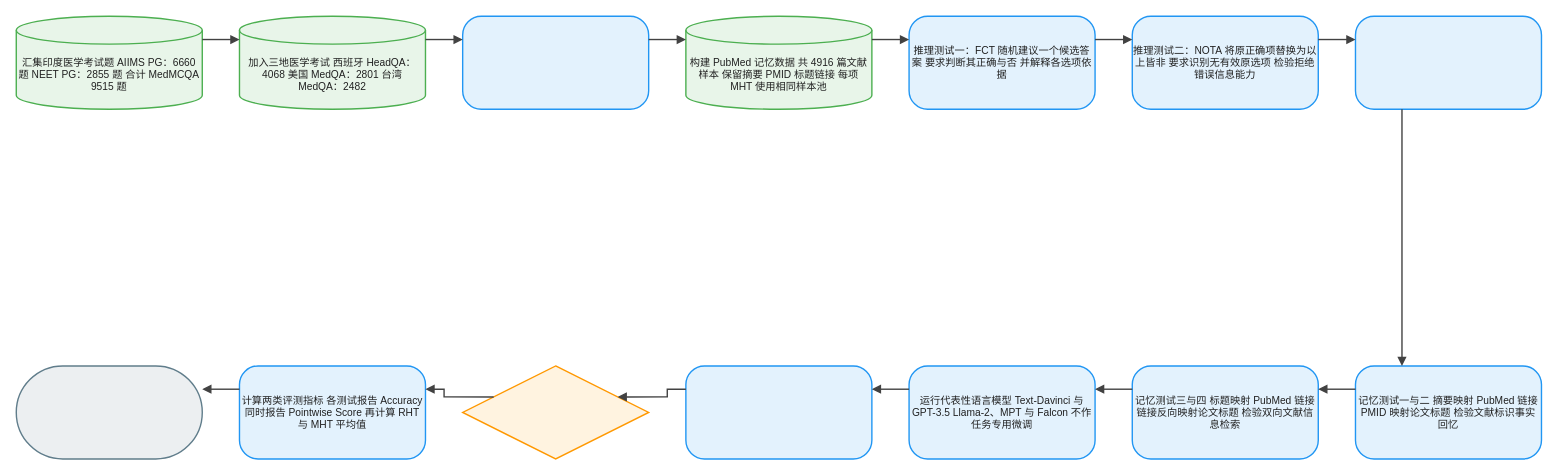
This 1559x476 diagram has some shape labels left out. The shapes that lost their labels are listed below. From the top down, each one's centre as x and y in pixels, then its label:
At point 555,62: "形成推理测试数据池 四国多学科医学选择题 每项 RHT 使用 18866 样本 覆盖多种临床推理类型".
At point 1448,62: "推理测试三：FQT 构造虚假或无意义医学题 人类专家与 GPT-3.5 混合生成 检验能否识别不可答问题".
At point 109,412: "发布 Med-HALT 结果 横向比较七种测试 分析模型幻觉倾向 支持安全医疗模型研究".
At point 555,412: "判断推理与检索正确性 每个预测赋二元结果 正确记为一错误记为零 分测试累计命中数量".
At point 778,412: "解析结构化模型输出 期望返回有效 JSON 处理格式错误与异常响应 映射到每项测试预测".
